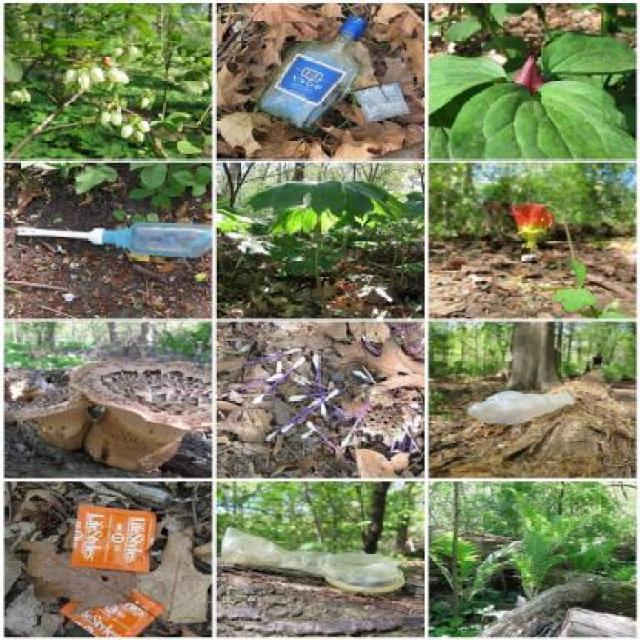garbage: (217, 526, 406, 588), (71, 506, 156, 640), (265, 14, 361, 130), (223, 351, 336, 434), (7, 209, 206, 256), (459, 385, 566, 431)
